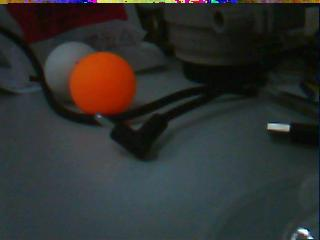oball: (69, 50, 135, 117)
